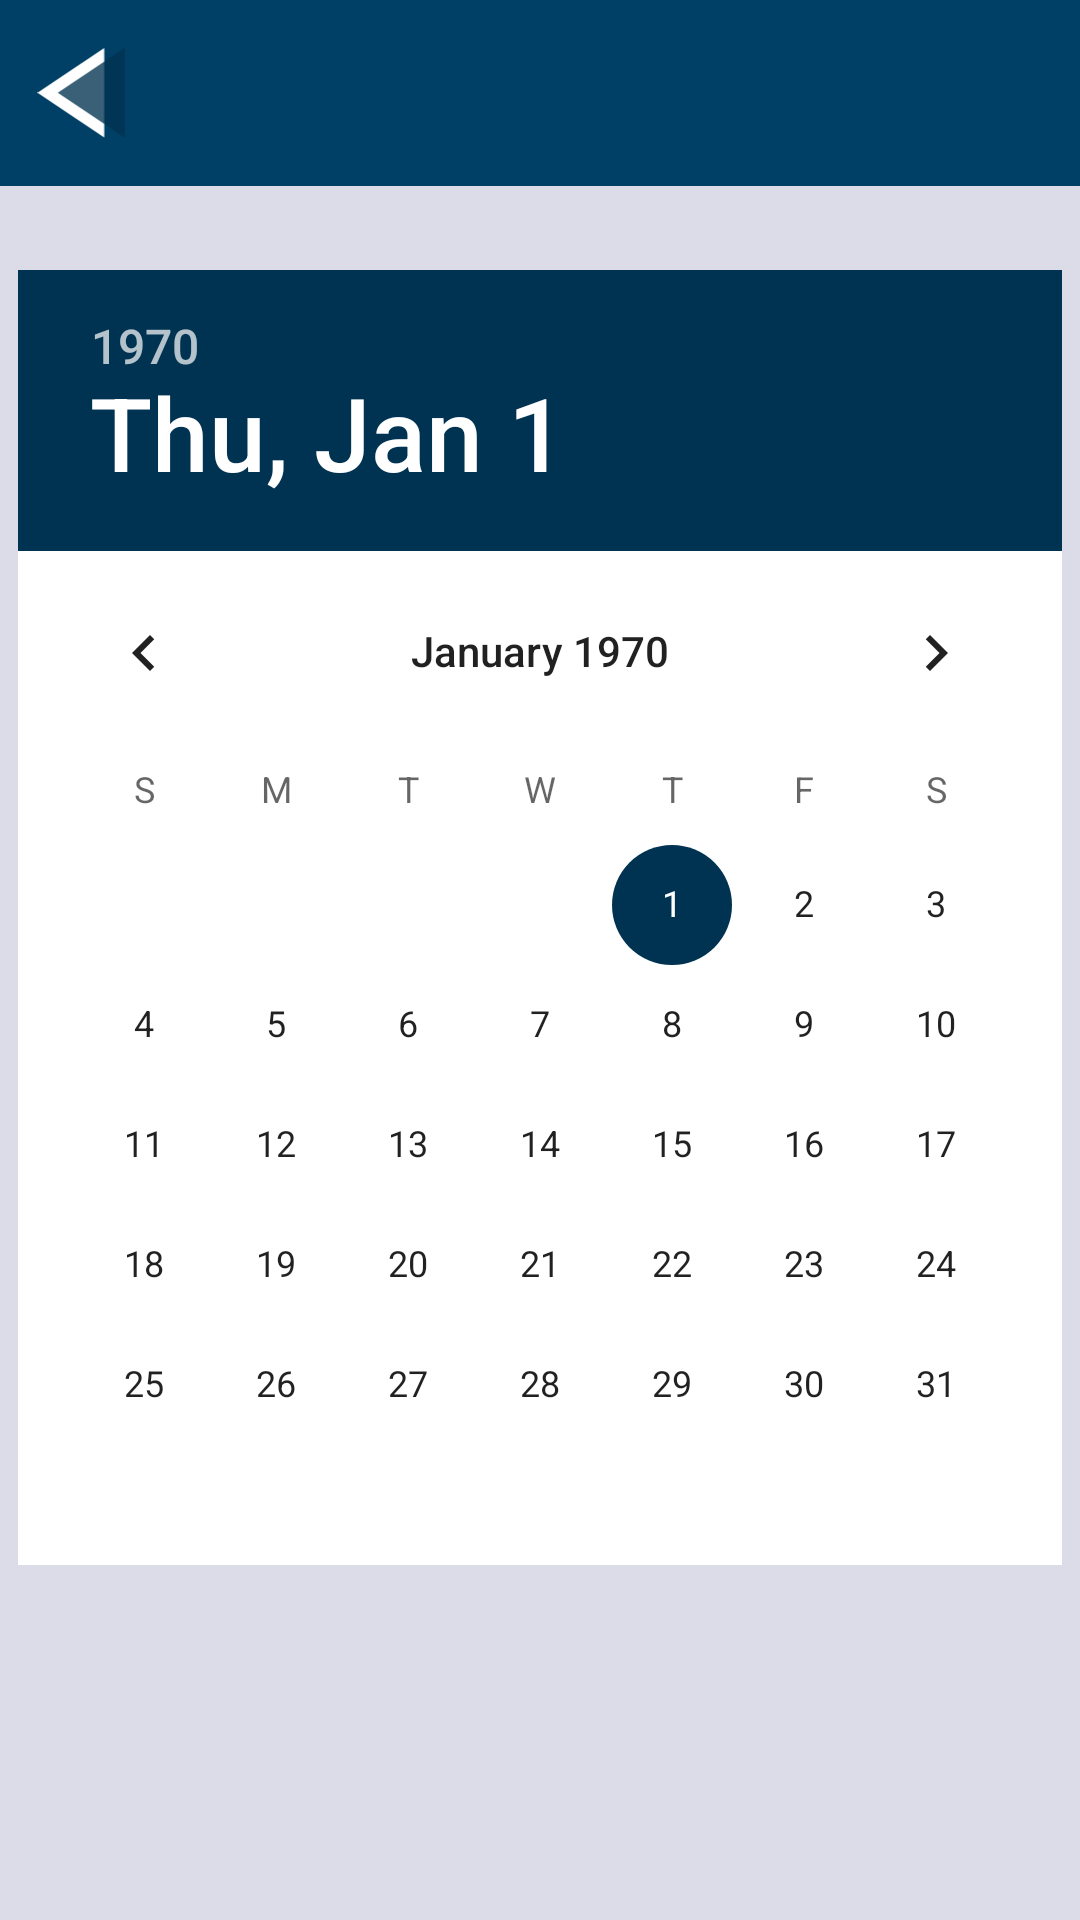

Point at icon controls on the screen. Image size 1080*1920, points as (x,y).
back: (71,93)
